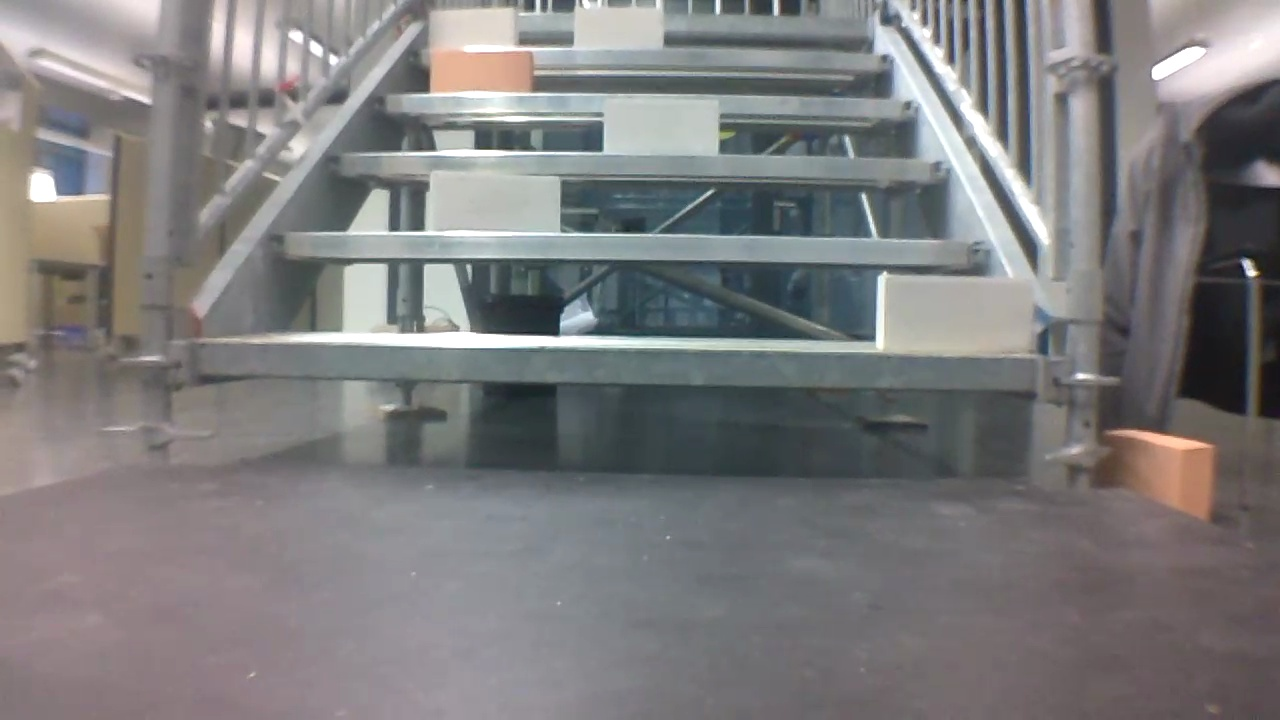brick: (876, 274, 1033, 349), (431, 170, 560, 233), (605, 100, 718, 153), (431, 51, 532, 91), (575, 7, 662, 47), (429, 9, 516, 46)
edge: (196, 335, 1040, 392), (273, 232, 991, 265), (328, 153, 957, 182), (375, 92, 919, 118), (406, 47, 896, 75), (407, 12, 871, 38)
stairs: (134, 3, 1106, 490)
steps: (188, 2, 1048, 408)
